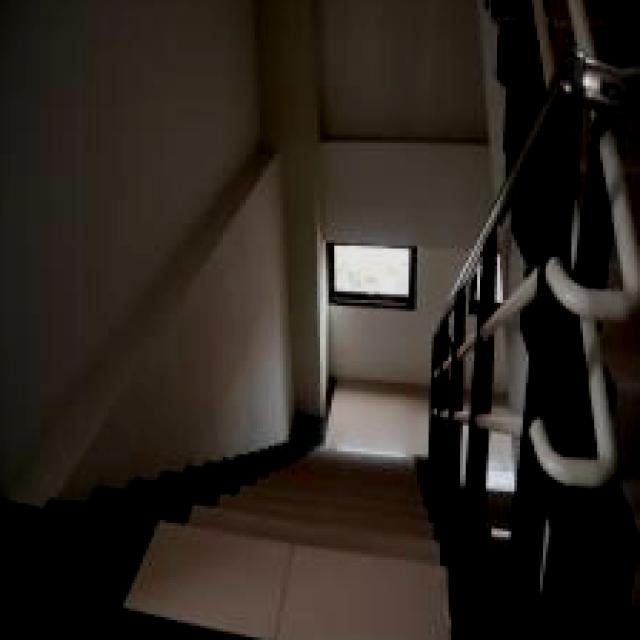downstair: (167, 424, 441, 640)
